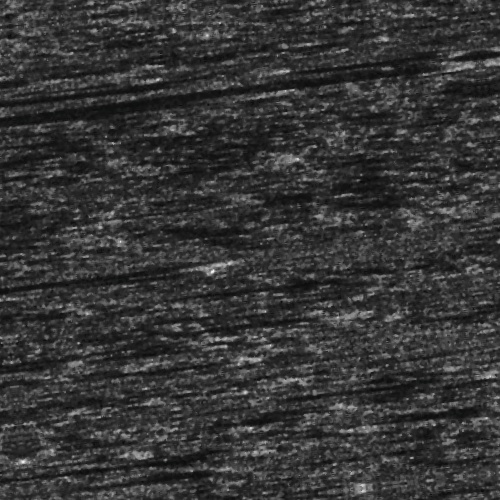object: (139, 247, 264, 264), (182, 68, 307, 77), (191, 348, 254, 365), (220, 90, 313, 97), (452, 82, 500, 93), (121, 62, 174, 71), (310, 317, 341, 328), (419, 394, 450, 403), (142, 50, 195, 55), (451, 73, 482, 78), (354, 285, 395, 288), (228, 446, 239, 451)
shadow: (46, 82, 500, 93), (0, 247, 201, 264), (65, 348, 222, 365), (121, 317, 325, 328), (21, 68, 244, 77), (0, 90, 266, 97), (291, 394, 435, 403), (0, 446, 233, 451), (32, 62, 147, 71), (311, 73, 466, 78), (172, 285, 374, 288), (54, 50, 168, 55)
